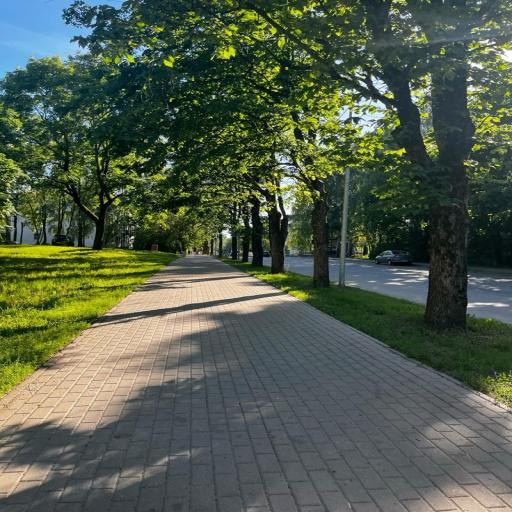book: (369, 244, 422, 272)
glass_wall: (1, 252, 512, 512)
